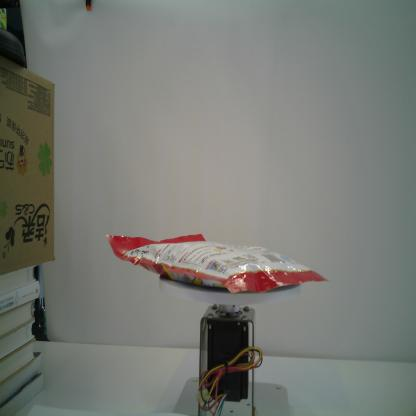Instant Drink: (105, 230, 332, 296)
